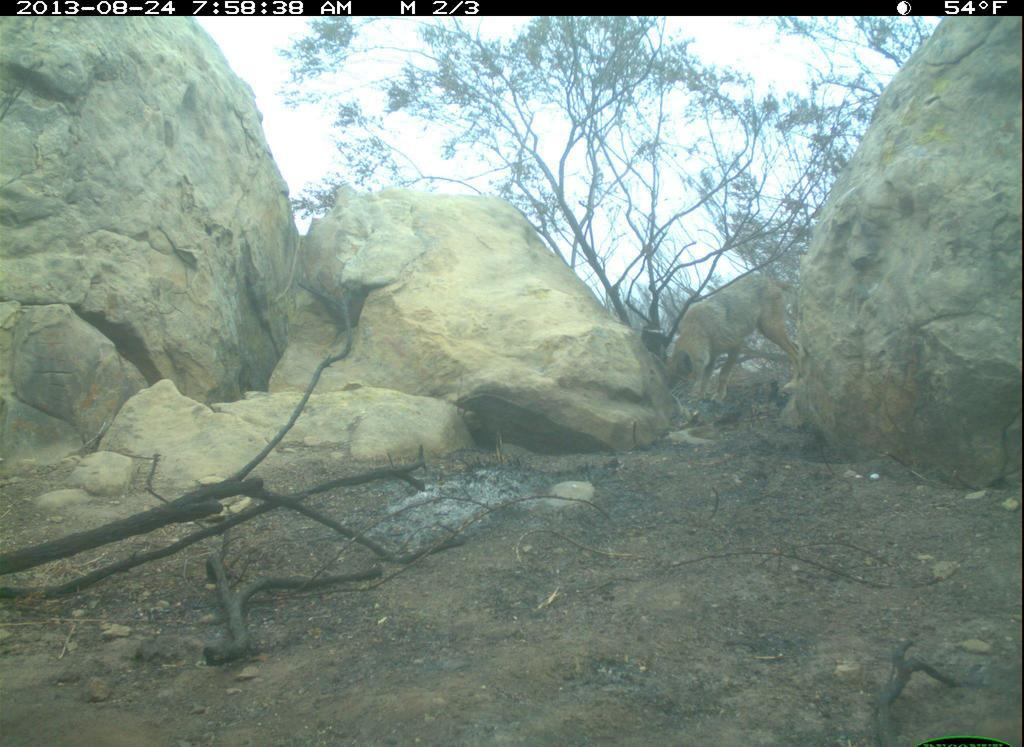coyote: (657, 269, 806, 407)
